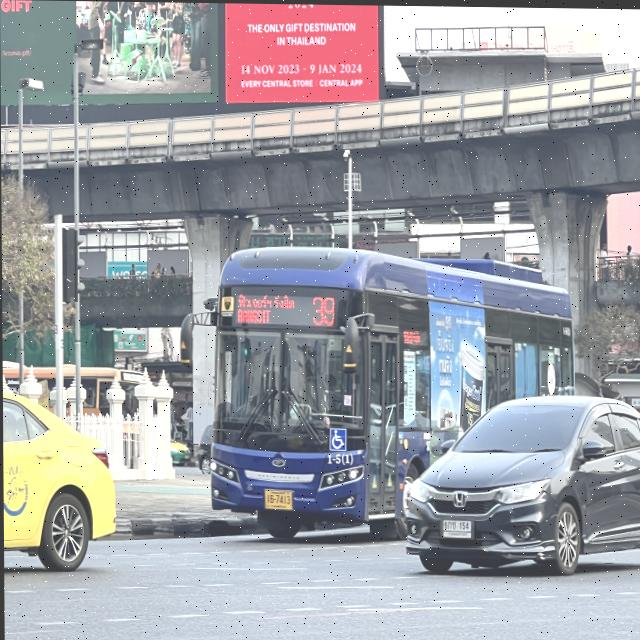Bus-Line-Number: (308, 292, 338, 329)
Destination-Sign-Normal: (234, 289, 299, 331)
TSB-Bus: (208, 245, 574, 545)
